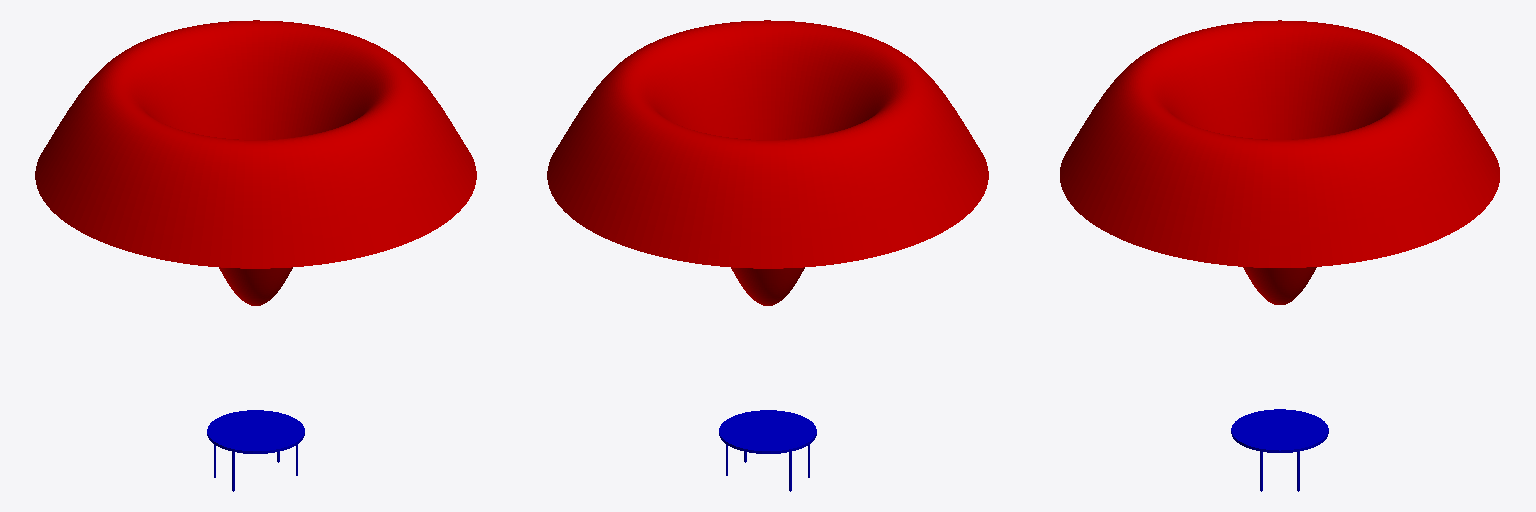
URDF robot description (turtlebot3_burger):
<?xml version="1.0" ?>
<!-- =================================================================================== -->
<!-- |    This document was autogenerated by xacro from tb3_burger_lcbf1.urdf.xacro    | -->
<!-- |    EDITING THIS FILE BY HAND IS NOT RECOMMENDED                                 | -->
<!-- =================================================================================== -->
<robot name="turtlebot3_burger">
  <!-- Init colour -->
  <material name="black">
    <color rgba="0.0 0.0 0.0 1.0"/>
  </material>
  <material name="dark">
    <color rgba="0.3 0.3 0.3 1.0"/>
  </material>
  <material name="light_black">
    <color rgba="0.4 0.4 0.4 1.0"/>
  </material>
  <material name="blue">
    <color rgba="0.0 0.0 0.8 1.0"/>
  </material>
  <material name="blueTransparent">
    <color rgba="0.0 0.0 0.8 0.4"/>
  </material>
  <material name="green">
    <color rgba="0.0 0.8 0.0 1.0"/>
  </material>
  <material name="grey">
    <color rgba="0.5 0.5 0.5 1.0"/>
  </material>
  <material name="orange">
    <color rgba="1.0 0.4235294117647059 0.0392156862745098 1.0"/>
  </material>
  <material name="brown">
    <color rgba="0.8705882352941177 0.8117647058823529 0.7647058823529411 1.0"/>
  </material>
  <material name="red">
    <color rgba="0.8 0.0 0.0 1.0"/>
  </material>
  <material name="white">
    <color rgba="1.0 1.0 1.0 1.0"/>
  </material>
  <gazebo reference="base_link">
    <material>Gazebo/DarkGrey</material>
  </gazebo>
  <gazebo reference="wheel_left_link">
    <mu1>0.1</mu1>
    <mu2>0.1</mu2>
    <kp>500000.0</kp>
    <kd>10.0</kd>
    <minDepth>0.001</minDepth>
    <maxVel>0.1</maxVel>
    <fdir1>1 0 0</fdir1>
    <material>Gazebo/FlatBlack</material>
  </gazebo>
  <gazebo reference="wheel_right_link">
    <mu1>0.1</mu1>
    <mu2>0.1</mu2>
    <kp>500000.0</kp>
    <kd>10.0</kd>
    <minDepth>0.001</minDepth>
    <maxVel>0.1</maxVel>
    <fdir1>1 0 0</fdir1>
    <material>Gazebo/FlatBlack</material>
  </gazebo>
  <gazebo reference="caster_back_link">
    <mu1>0.1</mu1>
    <mu2>0.1</mu2>
    <kp>1000000.0</kp>
    <kd>100.0</kd>
    <minDepth>0.001</minDepth>
    <maxVel>1.0</maxVel>
    <material>Gazebo/FlatBlack</material>
  </gazebo>
  <gazebo reference="imu_link">
    <sensor name="imu" type="imu">
      <always_on>true</always_on>
      <visualize>false</visualize>
    </sensor>
    <material>Gazebo/FlatBlack</material>
  </gazebo>
  <gazebo>
    <plugin filename="libgazebo_ros_diff_drive.so" name="turtlebot3_burger_controller">
      <commandTopic>cmd_vel</commandTopic>
      <odometryTopic>odom</odometryTopic>
      <odometryFrame>odom</odometryFrame>
      <odometrySource>world</odometrySource>
      <publishOdomTF>true</publishOdomTF>
      <robotBaseFrame>base_footprint</robotBaseFrame>
      <publishWheelTF>false</publishWheelTF>
      <publishTf>true</publishTf>
      <publishWheelJointState>true</publishWheelJointState>
      <legacyMode>false</legacyMode>
      <updateRate>30</updateRate>
      <leftJoint>wheel_left_joint</leftJoint>
      <rightJoint>wheel_right_joint</rightJoint>
      <wheelSeparation>0.160</wheelSeparation>
      <wheelDiameter>0.066</wheelDiameter>
      <wheelAcceleration>1</wheelAcceleration>
      <wheelTorque>10</wheelTorque>
      <rosDebugLevel>na</rosDebugLevel>
    </plugin>
  </gazebo>
  <gazebo>
    <plugin filename="libgazebo_ros_imu.so" name="imu_plugin">
      <alwaysOn>true</alwaysOn>
      <bodyName>imu_link</bodyName>
      <frameName>imu_link</frameName>
      <topicName>imu</topicName>
      <serviceName>imu_service</serviceName>
      <gaussianNoise>0.0</gaussianNoise>
      <updateRate>0</updateRate>
      <imu>
        <noise>
          <type>gaussian</type>
          <rate>
            <mean>0.0</mean>
            <stddev>2e-4</stddev>
            <bias_mean>0.0000075</bias_mean>
            <bias_stddev>0.0000008</bias_stddev>
          </rate>
          <accel>
            <mean>0.0</mean>
            <stddev>1.7e-2</stddev>
            <bias_mean>0.1</bias_mean>
            <bias_stddev>0.001</bias_stddev>
          </accel>
        </noise>
      </imu>
    </plugin>
  </gazebo>
  <gazebo reference="base_scan">
    <material>Gazebo/FlatBlack</material>
    <sensor name="lds_lfcd_sensor" type="ray">
      <pose>0 0 0 0 0 0</pose>
      <visualize>false</visualize>
      <update_rate>5</update_rate>
      <ray>
        <scan>
          <horizontal>
            <samples>360</samples>
            <resolution>1</resolution>
            <min_angle>0.0</min_angle>
            <max_angle>6.28319</max_angle>
          </horizontal>
        </scan>
        <range>
          <min>0.120</min>
          <max>3.5</max>
          <resolution>0.015</resolution>
        </range>
        <noise>
          <type>gaussian</type>
          <mean>0.0</mean>
          <stddev>0.01</stddev>
        </noise>
      </ray>
      <plugin filename="libgazebo_ros_laser.so" name="gazebo_ros_lds_lfcd_controller">
        <topicName>scan</topicName>
        <frameName>base_scan</frameName>
      </plugin>
    </sensor>
  </gazebo>
  <link name="base_footprint"/>
  <joint name="base_joint" type="fixed">
    <parent link="base_footprint"/>
    <child link="base_link"/>
    <origin rpy="0 0 0" xyz="0.0 0.0 0.010"/>
  </joint>
  <joint name="base_to_fl_pillar" type="fixed">
    <origin rpy="0 0 0" xyz="0.03 0.03 0.18000000000000002"/>
    <parent link="base_link"/>
    <child link="front_left_pillar"/>
  </joint>
  <link name="front_left_pillar">
    <visual>
      <geometry>
        <cylinder length="0.08" radius="0.002"/>
      </geometry>
      <material name="blue">
        <color rgba="0 0 0.8 1"/>
      </material>
    </visual>
    <collision>
      <geometry>
        <cylinder length="0.08" radius="0.002"/>
      </geometry>
    </collision>
    <inertial>
      <mass value="0.1"/>
      <inertia ixx="5.343331196e-05" ixy="0.0" ixz="0.0" iyy="5.343331196e-05" iyz="0.0" izz="2e-07"/>
    </inertial>
  </link>
  <joint name="base_to_fr_pillar" type="fixed">
    <origin rpy="0 0 0" xyz="0.03 -0.03 0.18000000000000002"/>
    <parent link="base_link"/>
    <child link="front_right_pillar"/>
  </joint>
  <link name="front_right_pillar">
    <visual>
      <geometry>
        <cylinder length="0.08" radius="0.002"/>
      </geometry>
      <material name="blue">
        <color rgba="0 0 0.8 1"/>
      </material>
    </visual>
    <collision>
      <geometry>
        <cylinder length="0.08" radius="0.002"/>
      </geometry>
    </collision>
    <inertial>
      <mass value="0.1"/>
      <inertia ixx="5.343331196e-05" ixy="0.0" ixz="0.0" iyy="5.343331196e-05" iyz="0.0" izz="2e-07"/>
    </inertial>
  </link>
  <joint name="base_to_br_pillar" type="fixed">
    <origin rpy="0 0 0" xyz="-0.09 -0.03 0.18000000000000002"/>
    <parent link="base_link"/>
    <child link="back_right_pillar"/>
  </joint>
  <link name="back_right_pillar">
    <visual>
      <geometry>
        <cylinder length="0.08" radius="0.002"/>
      </geometry>
      <material name="blue">
        <color rgba="0 0 0.8 1"/>
      </material>
    </visual>
    <collision>
      <geometry>
        <cylinder length="0.08" radius="0.002"/>
      </geometry>
    </collision>
    <inertial>
      <mass value="0.1"/>
      <inertia ixx="5.343331196e-05" ixy="0.0" ixz="0.0" iyy="5.343331196e-05" iyz="0.0" izz="2e-07"/>
    </inertial>
  </link>
  <joint name="base_to_bl_pillar" type="fixed">
    <origin rpy="0 0 0" xyz="-0.09 0.03 0.18000000000000002"/>
    <parent link="base_link"/>
    <child link="back_left_pillar"/>
  </joint>
  <link name="back_left_pillar">
    <visual>
      <geometry>
        <cylinder length="0.08" radius="0.002"/>
      </geometry>
      <material name="blue">
        <color rgba="0 0 0.8 1"/>
      </material>
    </visual>
    <collision>
      <geometry>
        <cylinder length="0.08" radius="0.002"/>
      </geometry>
    </collision>
    <inertial>
      <mass value="0.1"/>
      <inertia ixx="5.343331196e-05" ixy="0.0" ixz="0.0" iyy="5.343331196e-05" iyz="0.0" izz="2e-07"/>
    </inertial>
  </link>
  <joint name="base_to_disc" type="fixed">
    <origin rpy="0 0 0" xyz="-0.03 0.0 0.22000000000000003"/>
    <parent link="base_link"/>
    <child link="disc"/>
  </joint>
  <link name="disc">
    <visual>
      <geometry>
        <cylinder length="0.005" radius="0.08"/>
      </geometry>
      <material name="blue">
        <color rgba="0 0 0.8 1"/>
      </material>
    </visual>
    <collision>
      <geometry>
        <cylinder length="0.005" radius="0.08"/>
      </geometry>
    </collision>
    <inertial>
      <mass value="0.1"/>
      <inertia ixx="0.00016020826925" ixy="0.0" ixz="0.0" iyy="0.00016020826925" iyz="0.0" izz="0.00032"/>
    </inertial>
  </link>
  <link name="base_link">
    <visual>
      <origin rpy="0 0 0" xyz="-0.032 0 0.0"/>
      <geometry>
        <mesh filename="package://turtlebot3_description/meshes/bases/burger_base.stl" scale="0.001 0.001 0.001"/>
      </geometry>
      <material name="light_black"/>
    </visual>
    <collision>
      <origin rpy="0 0 0" xyz="-0.032 0 0.070"/>
      <geometry>
        <box size="0.140 0.140 0.143"/>
      </geometry>
    </collision>
    <inertial>
      <origin rpy="0 0 0" xyz="0 0 0"/>
      <mass value="8.2573504e-01"/>
      <inertia ixx="2.2124416e-03" ixy="-1.2294101e-05" ixz="3.4938785e-05" iyy="2.1193702e-03" iyz="-5.0120904e-06" izz="2.0064271e-03"/>
    </inertial>
  </link>
  <joint name="wheel_left_joint" type="fixed">
    <parent link="base_link"/>
    <child link="wheel_left_link"/>
    <origin rpy="-1.57 0 0" xyz="0.0 0.08 0.023"/>
    <axis xyz="0 0 1"/>
  </joint>
  <link name="wheel_left_link">
    <visual>
      <origin rpy="1.57 0 0" xyz="0 0 0"/>
      <geometry>
        <mesh filename="package://turtlebot3_description/meshes/wheels/left_tire.stl" scale="0.001 0.001 0.001"/>
      </geometry>
      <material name="dark"/>
    </visual>
    <collision>
      <origin rpy="0 0 0" xyz="0 0 0"/>
      <geometry>
        <cylinder length="0.018" radius="0.033"/>
      </geometry>
    </collision>
    <inertial>
      <origin xyz="0 0 0"/>
      <mass value="2.8498940e-02"/>
      <inertia ixx="1.1175580e-05" ixy="-4.2369783e-11" ixz="-5.9381719e-09" iyy="1.1192413e-05" iyz="-1.4400107e-11" izz="2.0712558e-05"/>
    </inertial>
  </link>
  <joint name="wheel_right_joint" type="fixed">
    <parent link="base_link"/>
    <child link="wheel_right_link"/>
    <origin rpy="-1.57 0 0" xyz="0.0 -0.080 0.023"/>
    <axis xyz="0 0 1"/>
  </joint>
  <link name="wheel_right_link">
    <visual>
      <origin rpy="1.57 0 0" xyz="0 0 0"/>
      <geometry>
        <mesh filename="package://turtlebot3_description/meshes/wheels/right_tire.stl" scale="0.001 0.001 0.001"/>
      </geometry>
      <material name="dark"/>
    </visual>
    <collision>
      <origin rpy="0 0 0" xyz="0 0 0"/>
      <geometry>
        <cylinder length="0.018" radius="0.033"/>
      </geometry>
    </collision>
    <inertial>
      <origin xyz="0 0 0"/>
      <mass value="2.8498940e-02"/>
      <inertia ixx="1.1175580e-05" ixy="-4.2369783e-11" ixz="-5.9381719e-09" iyy="1.1192413e-05" iyz="-1.4400107e-11" izz="2.0712558e-05"/>
    </inertial>
  </link>
  <joint name="caster_back_joint" type="fixed">
    <parent link="base_link"/>
    <child link="caster_back_link"/>
    <origin rpy="-1.57 0 0" xyz="-0.081 0 -0.004"/>
  </joint>
  <link name="caster_back_link">
    <collision>
      <origin rpy="0 0 0" xyz="0 0.001 0"/>
      <geometry>
        <box size="0.030 0.009 0.020"/>
      </geometry>
    </collision>
    <inertial>
      <origin xyz="0 0 0"/>
      <mass value="0.005"/>
      <inertia ixx="0.001" ixy="0.0" ixz="0.0" iyy="0.001" iyz="0.0" izz="0.001"/>
    </inertial>
  </link>
  <joint name="imu_joint" type="fixed">
    <parent link="base_link"/>
    <child link="imu_link"/>
    <origin rpy="0 0 0" xyz="-0.032 0 0.068"/>
  </joint>
  <link name="imu_link"/>
  <joint name="scan_joint" type="fixed">
    <parent link="base_link"/>
    <child link="base_scan"/>
    <origin rpy="0 0 0" xyz="-0.032 0 0.172"/>
  </joint>
  <link name="base_scan">
    <visual>
      <origin rpy="0 0 0" xyz="0 0 0.0"/>
      <geometry>
        <mesh filename="package://turtlebot3_description/meshes/sensors/lds.stl" scale="0.001 0.001 0.001"/>
      </geometry>
      <material name="dark"/>
    </visual>
    <collision>
      <origin rpy="0 0 0" xyz="0.015 0 -0.0065"/>
      <geometry>
        <cylinder length="0.0315" radius="0.055"/>
      </geometry>
    </collision>
    <inertial>
      <mass value="0.114"/>
      <origin xyz="0 0 0"/>
      <inertia ixx="0.001" ixy="0.0" ixz="0.0" iyy="0.001" iyz="0.0" izz="0.001"/>
    </inertial>
  </link>
  <link name="constraint">
    <visual>
      <origin rpy="0 0 0" xyz="0 0 0.0"/>
      <geometry>
        <mesh filename="package://ss_workshop/models/urdf/expParaboloid.stl" scale="1.0 1.0 1.0"/>
      </geometry>
      <material name="red"/>
    </visual>
  </link>
  <joint name="constraint_joint" type="fixed">
    <parent link="disc"/>
    <child link="constraint"/>
    <origin rpy="0 0 0" xyz="0.0 0.0 0.23"/>
  </joint>
</robot>

--- Facts derived from the render (not from the file) ---
The picture shows the robot from 3 angles, left to right: view 1: azimuth 30°, elevation 25°; view 2: azimuth 150°, elevation 25°; view 3: azimuth 270°, elevation 25°; orthographic projection.
Model turtlebot3_burger with 13 links and 12 joints (12 fixed), rooted at base_footprint, posed all joints at 0.
Visible links, largest first — view 1: constraint, disc; view 2: constraint, disc; view 3: constraint, disc.
Link boxes in pixels (bbox=[...]): constraint: bbox=[35, 20, 476, 305]; disc: bbox=[207, 410, 304, 453]; constraint: bbox=[547, 20, 988, 305]; disc: bbox=[719, 410, 816, 453]; constraint: bbox=[1060, 20, 1499, 304]; disc: bbox=[1231, 409, 1328, 452].
Size in the robot's own frame: 0.7218 by 0.7218 by 0.711 metres.
1 mesh visuals loaded from 5 distinct referenced files (1 binary STL); not drawn: 4 (reference not matched to a file when rendering).
